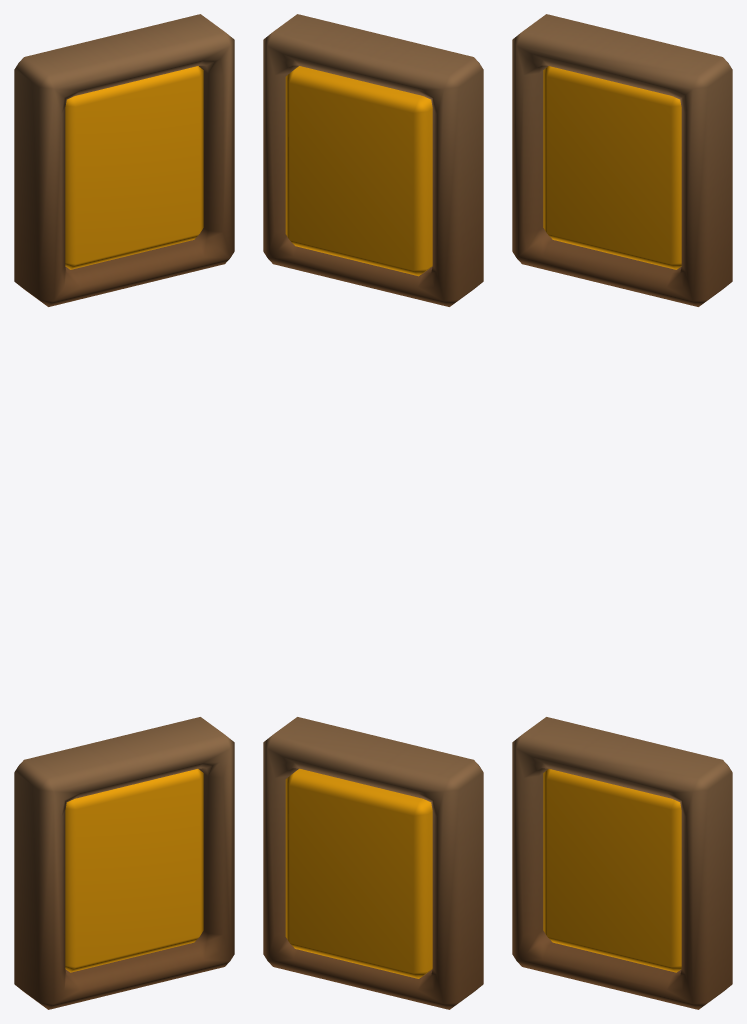
The model's file is SM_Clay_Window_04.fbx.
The picture shows the model from 3 angles, left to right: view 1: azimuth 30°, elevation 25°; view 2: azimuth 150°, elevation 25°; view 3: azimuth 330°, elevation 25°; orthographic projection.
Visible parts, largest first — view 1: SM_Clay_Window_04; view 2: SM_Clay_Window_04; view 3: SM_Clay_Window_04.
Boxes of the visible parts, x1=… form: SM_Clay_Window_04: x1=14, y1=14, x2=234, y2=1009; SM_Clay_Window_04: x1=263, y1=14, x2=483, y2=1009; SM_Clay_Window_04: x1=512, y1=14, x2=732, y2=1009.
Bounding box in the file's own units: 0.2926 × 1.34 × 0.1029.
